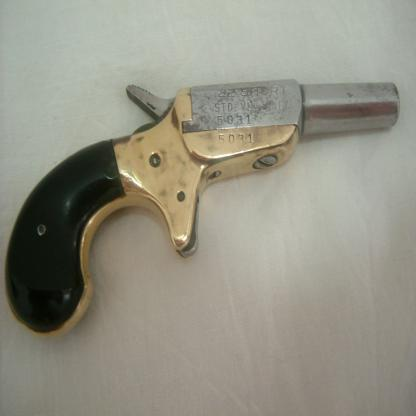Handgun: (4, 78, 399, 338)
